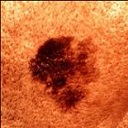Melanoma: (29, 35, 99, 109)
